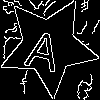A: (24, 21, 66, 73)
